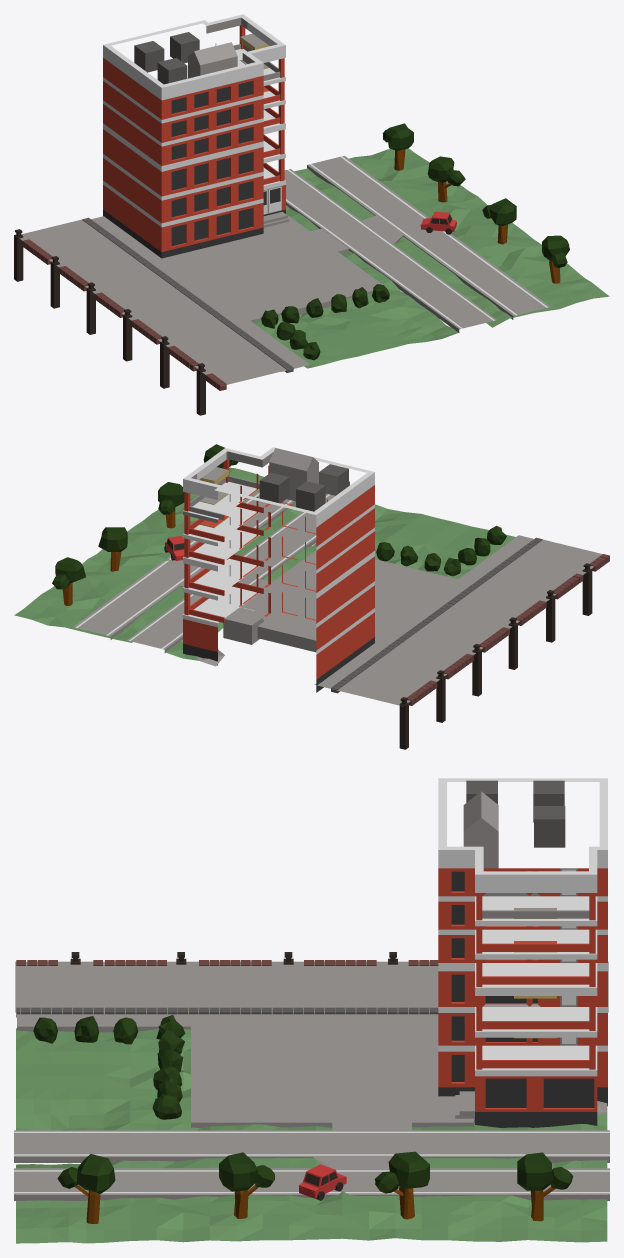
Rendered from map.gltf.
3 views of the same model, one above another, from view 1: azimuth 30°, elevation 25°; view 2: azimuth 150°, elevation 25°; view 3: azimuth 270°, elevation 25° (orthographic). The views are drawn at different scales.
Parts seen in each view (by area): view 1: Cube.006; view 2: Cube.006; view 3: Cube.006.
Part boxes in pixels (x1,y1,x2,y2): Cube.006: (14, 14, 609, 415); Cube.006: (14, 444, 609, 749); Cube.006: (14, 778, 609, 1243).
Size of the model in its own units: 20.69 by 11.48 by 18.93.
